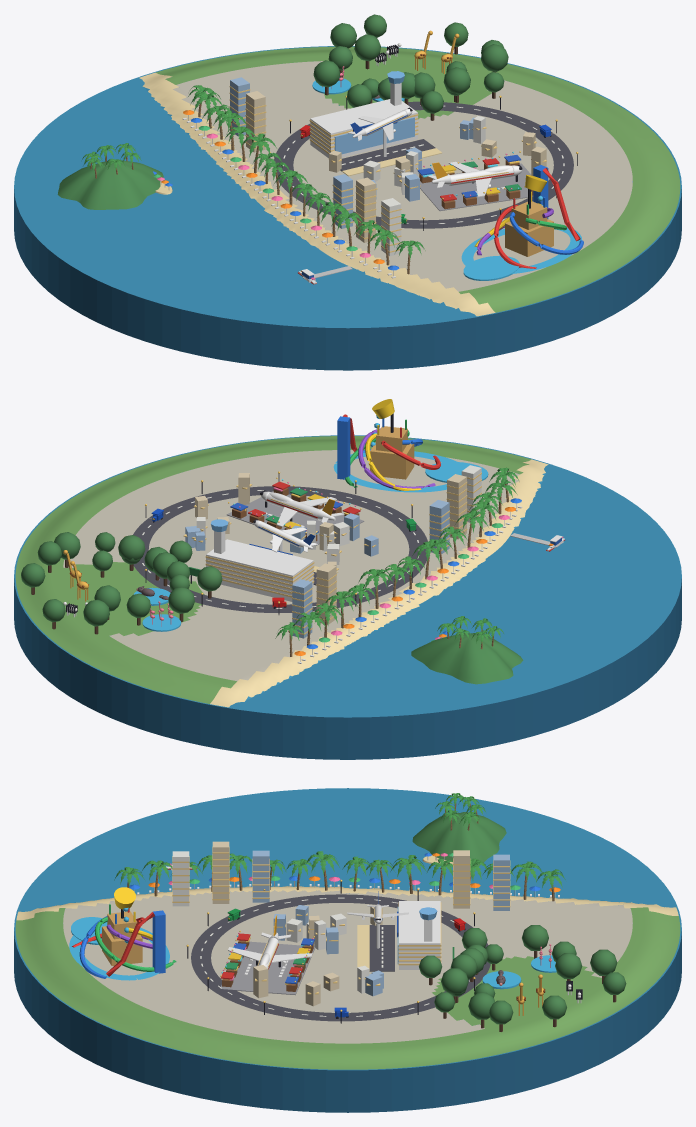
Rendered from pattaya.glb.
The picture shows the model from 3 angles, top to bottom: view 1: azimuth 30°, elevation 25°; view 2: azimuth 150°, elevation 25°; view 3: azimuth 270°, elevation 25°; orthographic projection.
Parts seen in each view (by area): view 1: DECO-base, DECO-land, DECO-beach-road-hotels, DECO-loop-road, koh-lan-hill, DECO-city-blocks, t21-building, nm-ground, t21-glass, rw-fortress, rw-wave-pool, t21-runway (+8 smaller); view 2: DECO-base, DECO-land, DECO-loop-road, DECO-beach-road-hotels, koh-lan-hill, t21-building, DECO-city-blocks, rw-fortress, nm-ground, rw-freefall-tower, rw-lazy-river, rw-wave-pool (+4 smaller); view 3: DECO-base, DECO-land, DECO-loop-road, DECO-beach-road-hotels, DECO-city-blocks, koh-lan-hill, t21-building, nm-ground, t21-runway, rw-freefall-tower, rw-fortress, rw-lazy-river (+8 smaller).
Part boxes in pixels (<box>): DECO-base: <box>14,46,681,370</box>; DECO-land: <box>139,46,680,316</box>; DECO-beach-road-hotels: <box>229,77,401,256</box>; DECO-loop-road: <box>274,101,573,228</box>; koh-lan-hill: <box>57,160,163,209</box>; DECO-city-blocks: <box>328,116,546,201</box>; t21-building: <box>310,99,417,158</box>; nm-ground: <box>420,163,532,211</box>; t21-glass: <box>334,117,414,154</box>; rw-fortress: <box>505,219,553,256</box>; rw-wave-pool: <box>463,255,519,280</box>; t21-runway: <box>340,139,435,171</box>; DECO-base: <box>14,435,681,759</box>; DECO-land: <box>15,436,548,707</box>; DECO-loop-road: <box>133,486,427,613</box>; DECO-beach-road-hotels: <box>292,465,481,638</box>; koh-lan-hill: <box>411,633,523,684</box>; t21-building: <box>206,539,313,601</box>; DECO-city-blocks: <box>183,473,378,570</box>; rw-fortress: <box>370,442,414,479</box>; nm-ground: <box>226,491,364,545</box>; rw-freefall-tower: <box>337,416,350,479</box>; rw-lazy-river: <box>333,451,457,492</box>; rw-wave-pool: <box>425,462,488,482</box>; DECO-base: <box>14,788,681,1112</box>; DECO-land: <box>15,886,680,1069</box>; DECO-loop-road: <box>191,894,490,1021</box>; DECO-beach-road-hotels: <box>172,841,510,910</box>; DECO-city-blocks: <box>253,905,383,1006</box>; koh-lan-hill: <box>412,812,506,866</box>; t21-building: <box>399,901,440,969</box>; nm-ground: <box>220,941,315,995</box>; t21-runway: <box>369,925,394,971</box>; rw-freefall-tower: <box>152,910,165,973</box>; rw-fortress: <box>102,926,142,965</box>; rw-lazy-river: <box>69,927,169,980</box>.
Size of the model in its own units: 2 by 0.3901 by 2.
